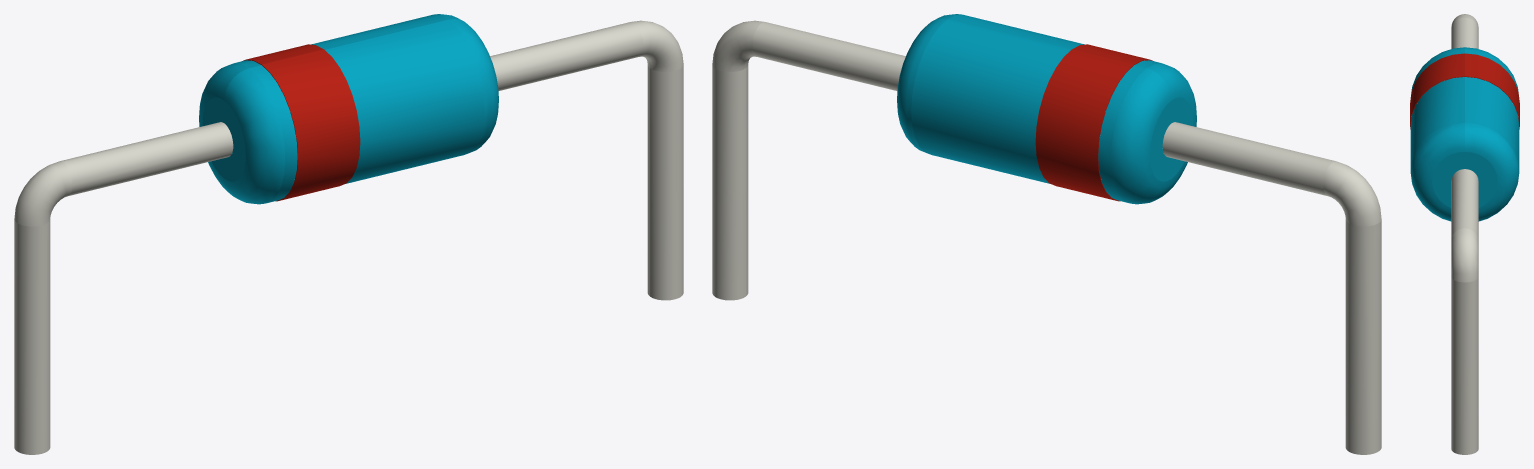
Rendered from kc-d_do-35_sod27_p10.16mm_horizontal.glb.
3 renders of one model, left to right at view 1: azimuth 30°, elevation 25°; view 2: azimuth 150°, elevation 25°; view 3: azimuth 270°, elevation 25°, orthographic. The views are drawn at different scales.
Parts seen in each view (by area): view 1: 0.6666666666666666_0.6666666666666666_0.5833333333333334_0.8, 0_0.3333333333333333_0.5_0, 0.4166666666666667_0_0_0; view 2: 0.6666666666666666_0.6666666666666666_0.5833333333333334_0.8, 0_0.3333333333333333_0.5_0, 0.4166666666666667_0_0_0; view 3: 0_0.3333333333333333_0.5_0, 0.6666666666666666_0.6666666666666666_0.5833333333333334_0.8, 0.4166666666666667_0_0_0.
Boxes of the visible parts, bbox=[...] form: 0.6666666666666666_0.6666666666666666_0.5833333333333334_0.8: bbox=[14, 20, 683, 454]; 0_0.3333333333333333_0.5_0: bbox=[199, 14, 498, 204]; 0.4166666666666667_0_0_0: bbox=[243, 44, 360, 201]; 0.6666666666666666_0.6666666666666666_0.5833333333333334_0.8: bbox=[712, 20, 1381, 454]; 0_0.3333333333333333_0.5_0: bbox=[897, 14, 1196, 204]; 0.4166666666666667_0_0_0: bbox=[1035, 44, 1152, 201]; 0_0.3333333333333333_0.5_0: bbox=[1410, 47, 1519, 221]; 0.6666666666666666_0.6666666666666666_0.5833333333333334_0.8: bbox=[1451, 14, 1478, 454]; 0.4166666666666667_0_0_0: bbox=[1410, 53, 1519, 129].
Bounding box in the file's own units: 1.07 × 0.501 × 0.202.
